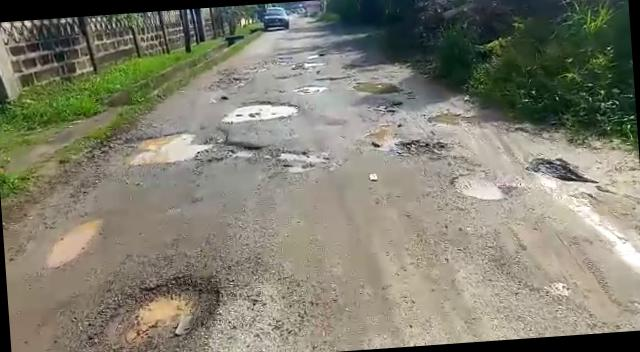pothole: (97, 268, 231, 352), (118, 125, 253, 168), (46, 218, 106, 268), (524, 150, 600, 189), (451, 167, 518, 204), (222, 95, 301, 122), (394, 135, 456, 164), (276, 147, 338, 174), (426, 104, 478, 129), (352, 76, 406, 99), (294, 82, 329, 93)
